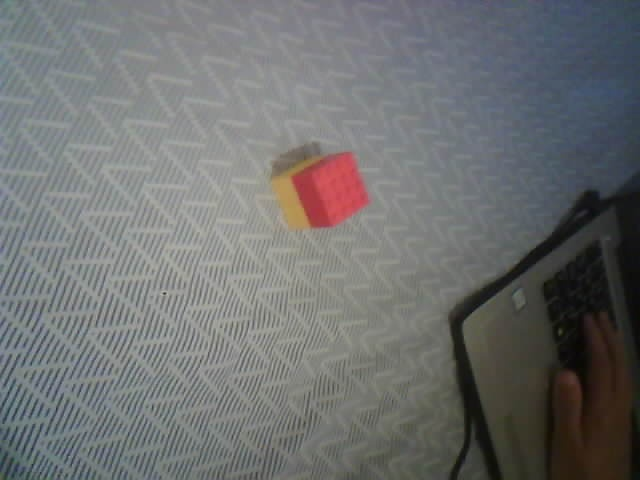lego: (269, 150, 371, 231)
